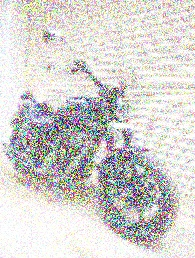Vehicle: (1, 29, 181, 245)
